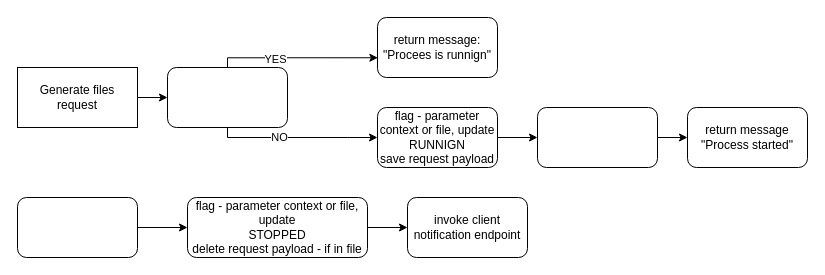
The diagram is 825 pixels wide and 275 high, and some of its shapes have lost their labels. The shapes that lost their labels are listed below. From the top down, each one's centre as x and y in pixels, then its label:
At point (227, 97): "is process running?".
At point (597, 137): "start end of day functionality".
At point (77, 227): "end of day functionality ended".
